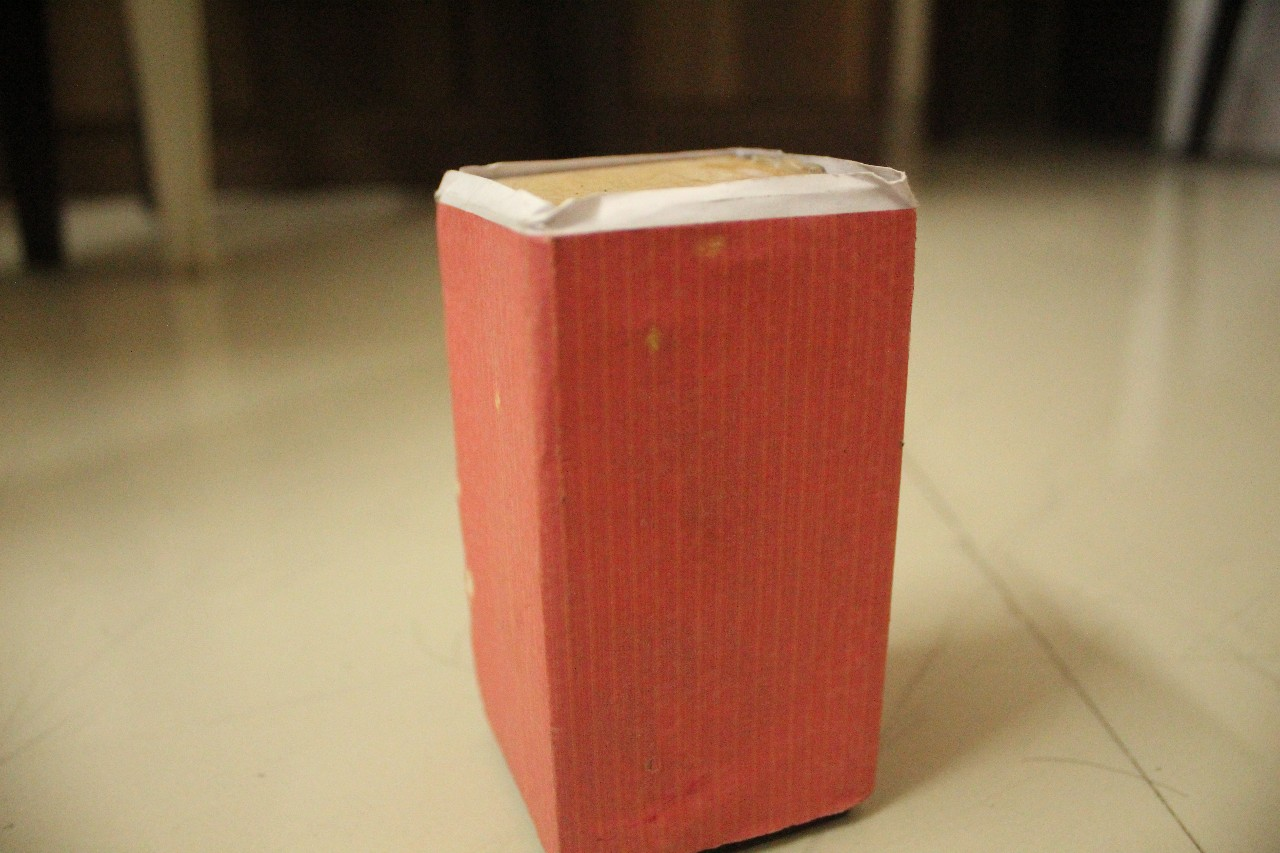red: (387, 170, 942, 853), (647, 0, 759, 117), (788, 0, 879, 139)
